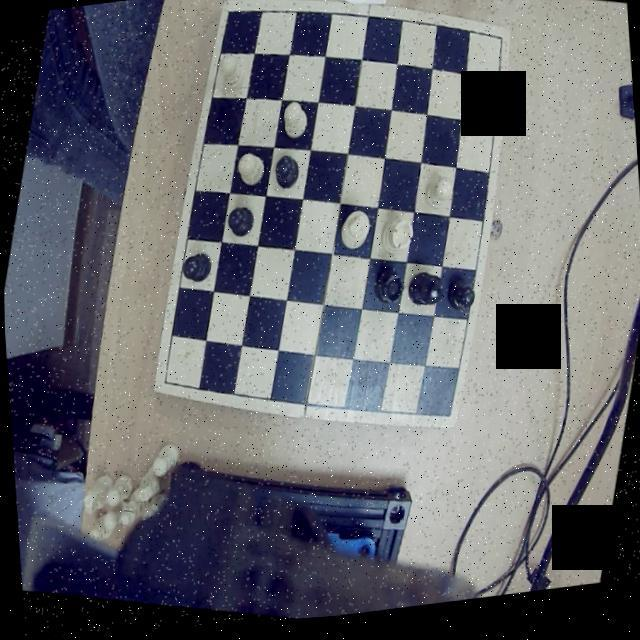chess-table-corners: (431, 404, 458, 436), (153, 370, 180, 400), (218, 2, 242, 34), (486, 32, 509, 58)
